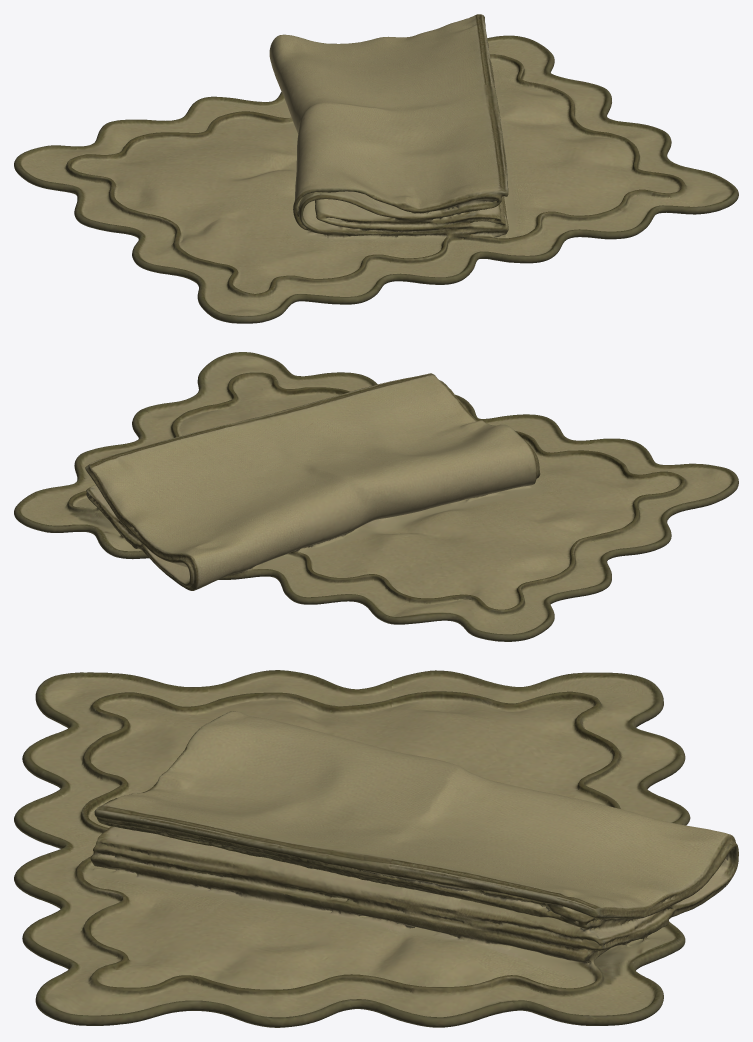
The model's file is design2.glb.
3 renders of one model, top to bottom at view 1: azimuth 30°, elevation 25°; view 2: azimuth 150°, elevation 25°; view 3: azimuth 270°, elevation 25°, orthographic. The views are drawn at different scales.
Bounding box in the file's own units: 1.9 × 0.2025 × 1.65.
Materials: 1 (1 with a texture image).
